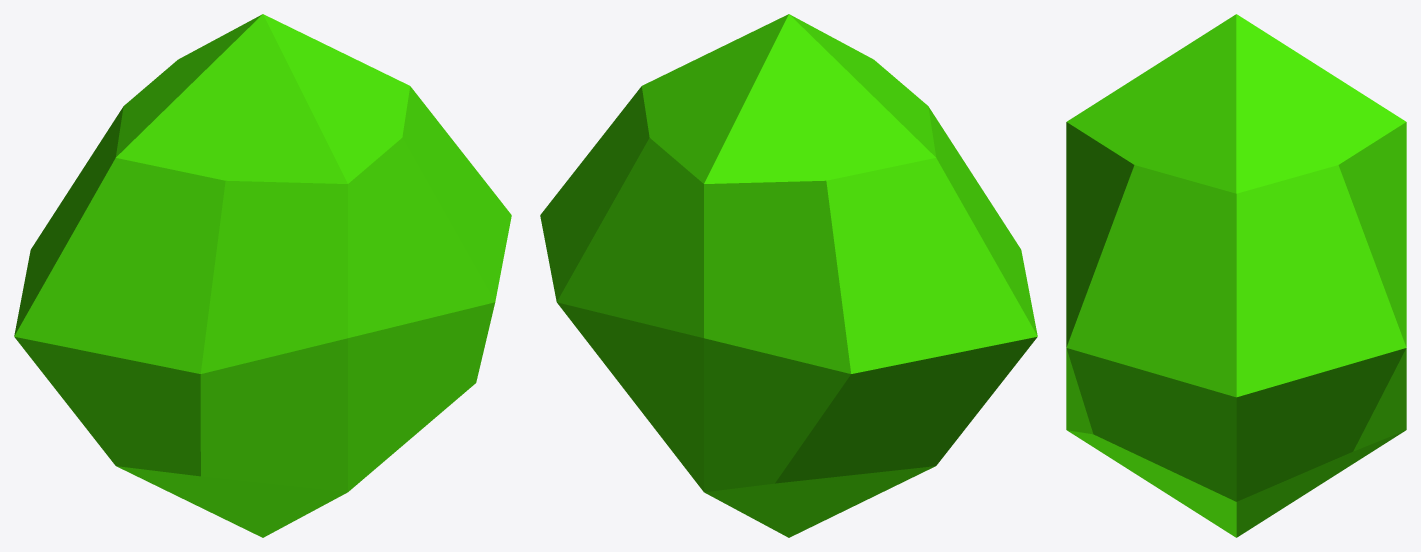
File: verde.glb
3 views of the same model, side by side, from view 1: azimuth 30°, elevation 25°; view 2: azimuth 150°, elevation 25°; view 3: azimuth 270°, elevation 25° (orthographic).
Parts seen in each view (by area): view 1: Cube; view 2: Cube; view 3: Cube.
Part boxes in pixels (box(x1,y1,x2,y2)): Cube: box(14, 14, 511, 537); Cube: box(540, 14, 1037, 537); Cube: box(1066, 14, 1406, 537).
Bounding box in the file's own units: 3.38 × 3.4 × 2.
